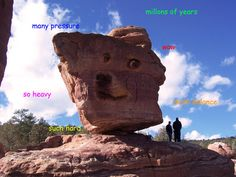doge: (87, 39, 149, 114)
